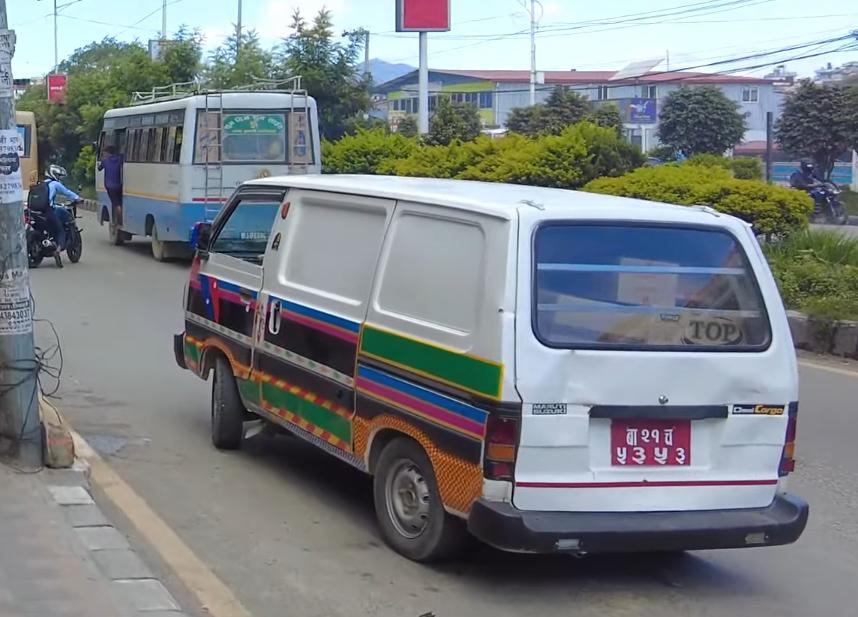bike: (16, 192, 93, 265)
bus: (88, 69, 324, 257)
van: (171, 160, 813, 576)
